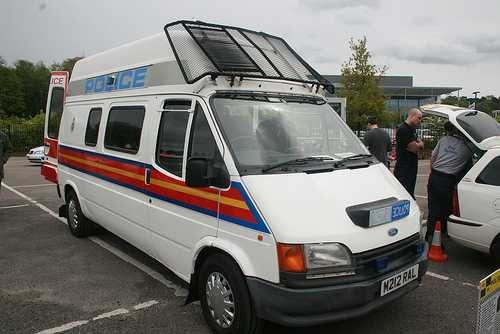Police Van: (36, 34, 406, 334)
